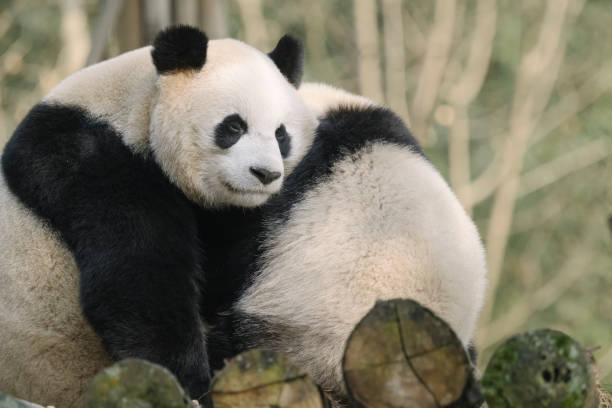panda: (136, 22, 327, 222)
